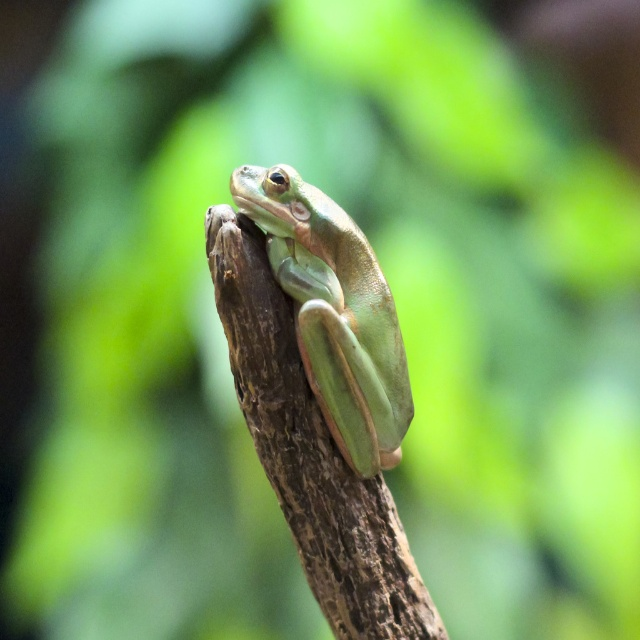Frog: (226, 161, 416, 484)
